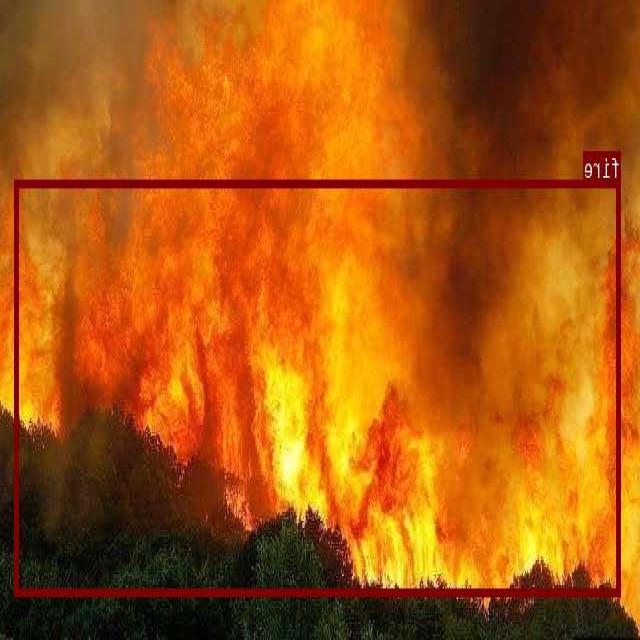fire: (16, 178, 622, 594)
